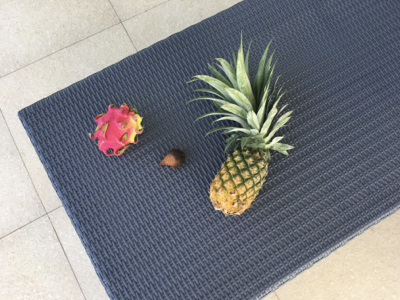dragon fruit: (89, 103, 145, 158)
pineapple: (189, 32, 295, 216)
snake fruit: (158, 148, 185, 169)
